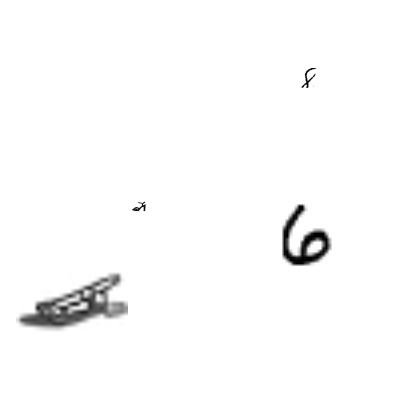4: (52, 276, 66, 290)
6: (259, 199, 343, 283)
8: (294, 64, 322, 92)
Sandal: (16, 246, 128, 358), (132, 199, 146, 213)
